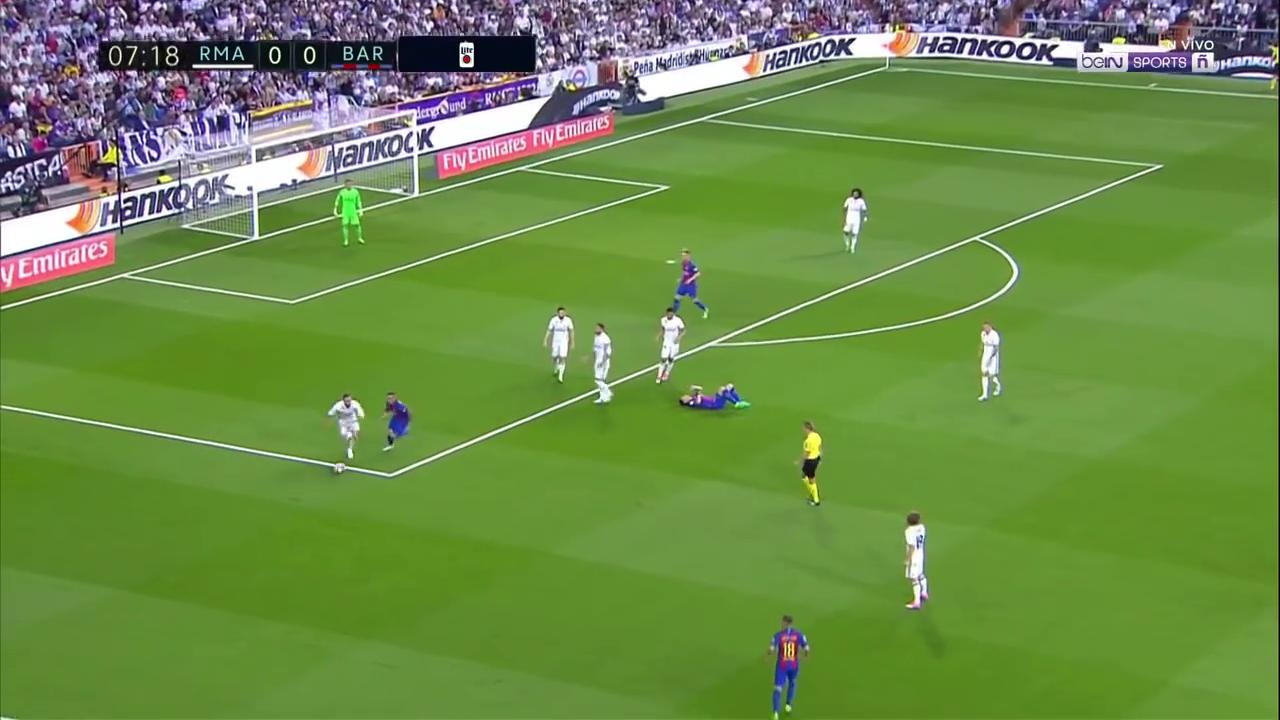ball: (335, 462, 344, 475)
goalie: (330, 179, 369, 248)
player: (766, 612, 809, 720), (898, 507, 939, 616), (321, 388, 369, 461), (667, 248, 712, 323), (539, 305, 577, 383), (651, 308, 687, 387), (679, 381, 755, 414), (974, 321, 1004, 402), (838, 186, 870, 254), (379, 391, 413, 454), (592, 320, 615, 407)
referee: (793, 418, 828, 508)
